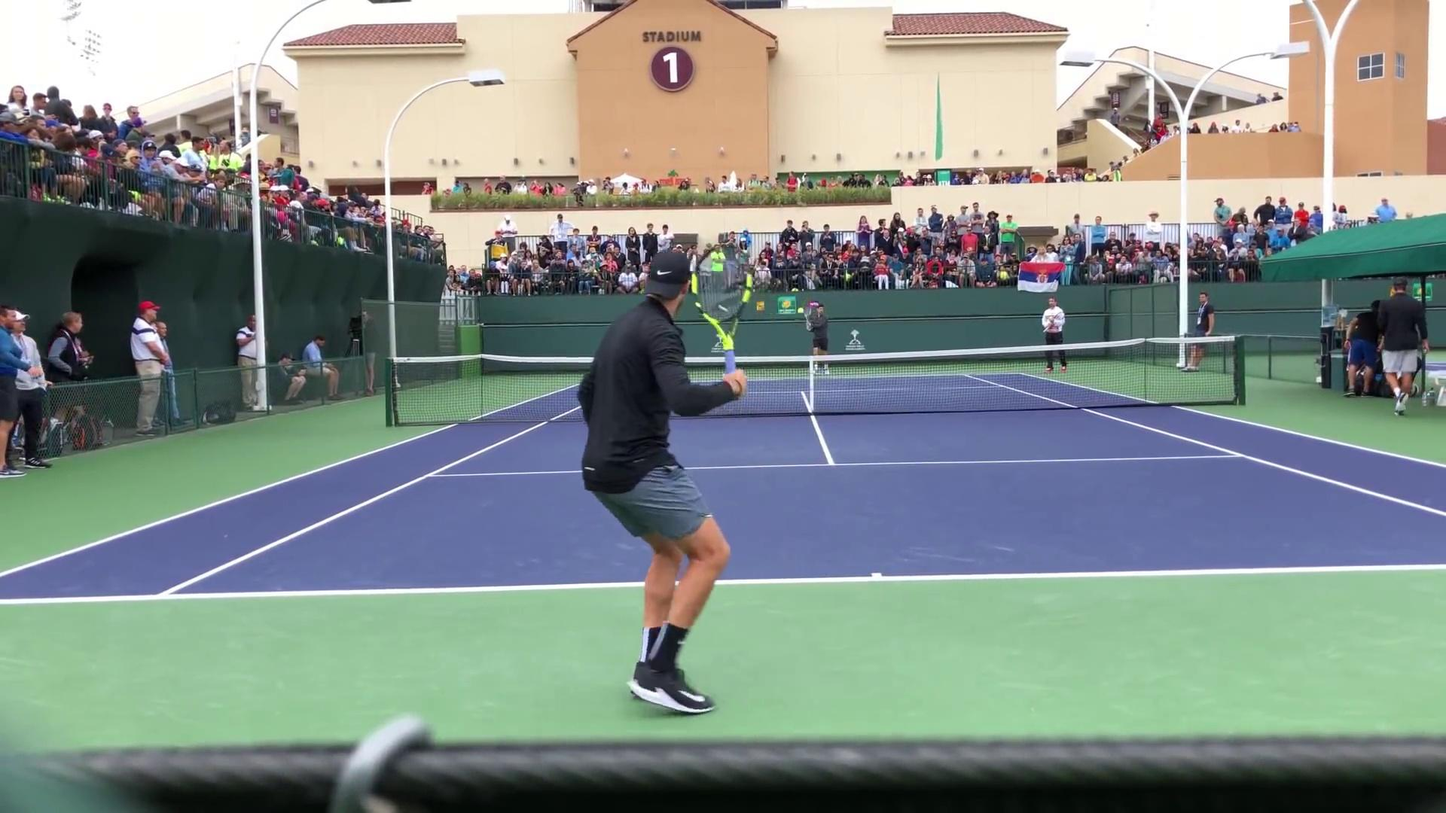ball: (795, 308, 804, 314)
